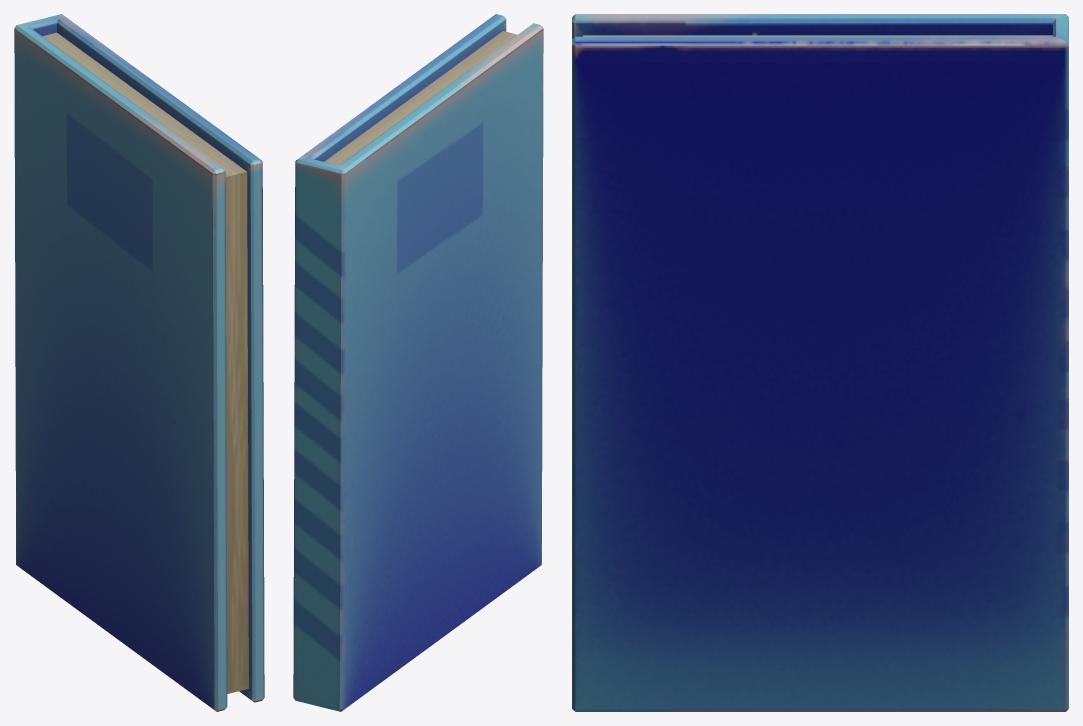
File: Libro_2.fbx
3 renders of one model, left to right at view 1: azimuth 30°, elevation 25°; view 2: azimuth 150°, elevation 25°; view 3: azimuth 270°, elevation 25°, orthographic. The views are drawn at different scales.
Visible parts, largest first — view 1: Libros 2; view 2: Libros 2; view 3: Libros 2.
Boxes of the visible parts, x1,y1,x2,y2 form: Libros 2: [14, 14, 264, 711]; Libros 2: [293, 14, 543, 711]; Libros 2: [572, 14, 1068, 711].
Bounding box in the file's own units: 9.39 × 93.83 × 63.07.
